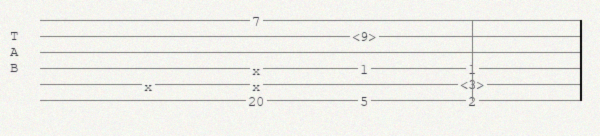1: (360, 62, 372, 75), (468, 62, 480, 75)
2: (468, 94, 480, 107)
20: (248, 94, 268, 107)
5: (360, 94, 372, 107)
7: (252, 14, 264, 27)
harmonic: (352, 29, 380, 43), (460, 77, 488, 91)
x: (144, 79, 156, 89), (252, 79, 264, 89), (252, 63, 264, 73)
